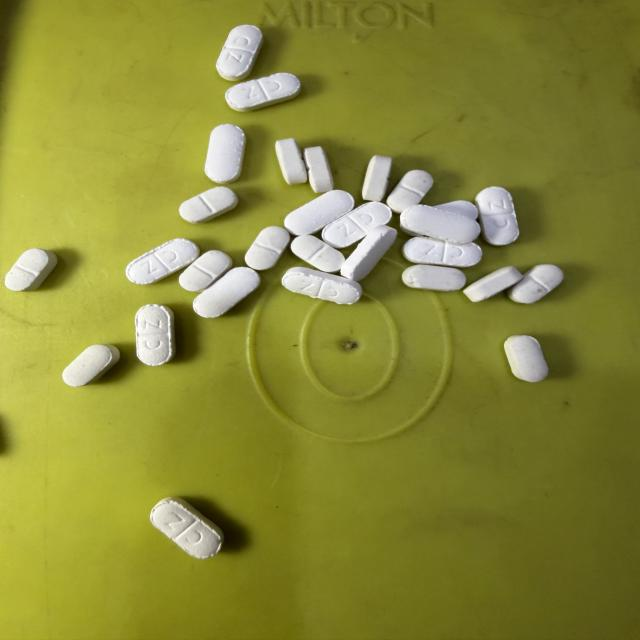pill: (151, 498, 223, 559), (194, 267, 260, 318), (126, 239, 199, 284), (322, 202, 392, 248), (284, 190, 354, 235), (341, 226, 397, 280), (401, 205, 480, 243), (282, 267, 361, 304), (226, 73, 300, 111), (217, 25, 262, 81), (476, 187, 519, 245), (403, 237, 482, 267), (205, 124, 245, 183), (63, 345, 120, 386), (136, 305, 174, 366), (5, 249, 57, 291), (179, 251, 232, 291), (508, 265, 563, 303), (180, 187, 238, 223), (463, 267, 522, 302), (245, 226, 290, 270), (505, 336, 548, 382), (387, 170, 433, 213), (291, 236, 344, 272), (402, 265, 466, 291), (276, 138, 307, 184), (304, 146, 334, 193), (362, 156, 391, 201), (435, 200, 478, 219), (434, 201, 477, 219)
